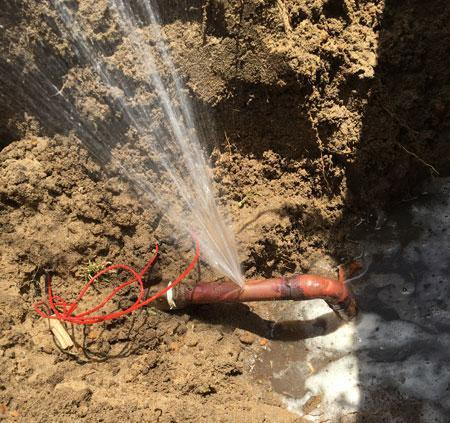pipe burst: (49, 0, 248, 293)
water accumulation: (250, 175, 450, 423)
